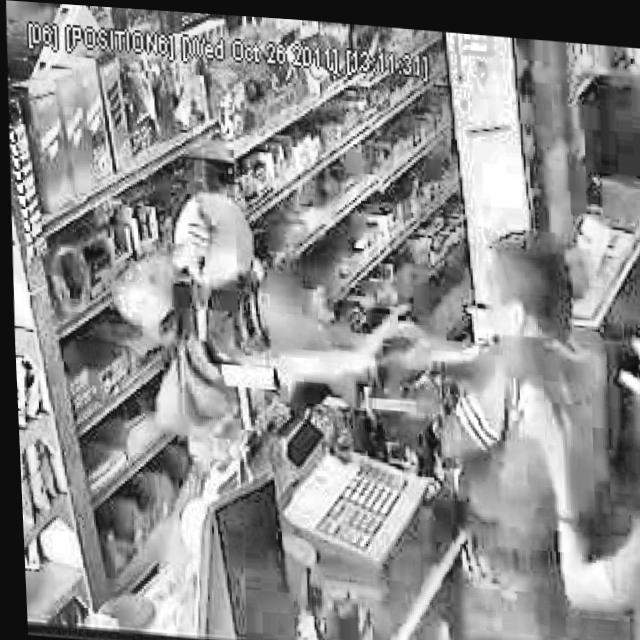robbery: (98, 175, 415, 473)
